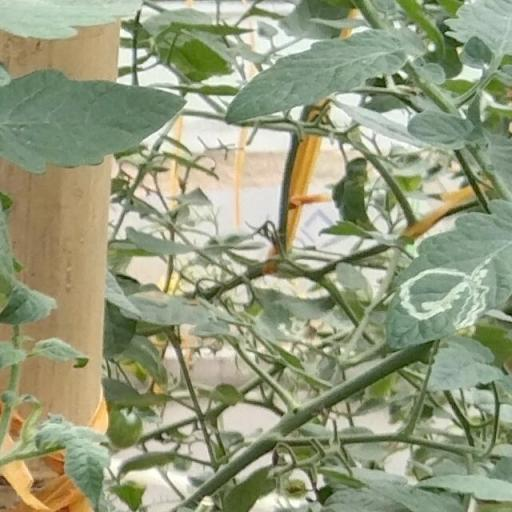Healthy: (0, 65, 191, 179), (222, 26, 410, 130)
Leaf Miner: (384, 198, 512, 350)
